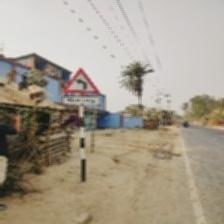Left-Turn: (60, 63, 103, 112)
